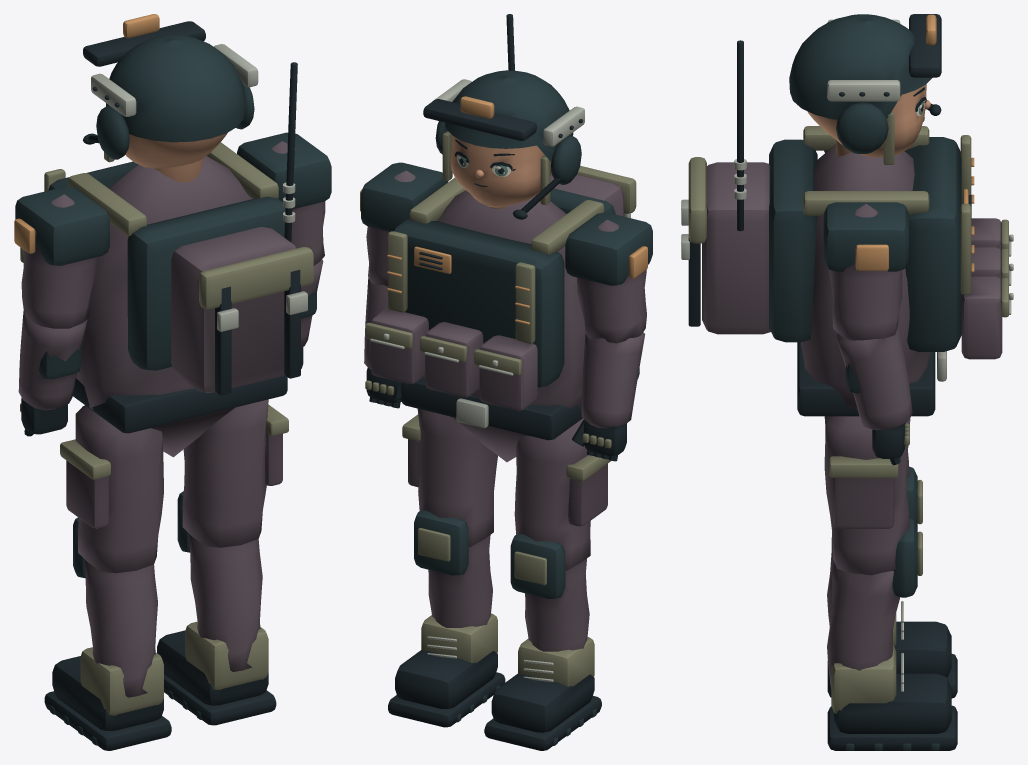
Rendered from kf-sword.glb.
3 renders of one model, left to right at view 1: azimuth 30°, elevation 25°; view 2: azimuth 150°, elevation 25°; view 3: azimuth 270°, elevation 25°, orthographic. The views are drawn at different scales.
Visible parts, largest first — view 1: Torso Woven uniform, Head Ceramic armor, Leg_R Woven uniform, Leg_L Woven uniform, Torso Ceramic armor, Torso Rubber and hair, Torso Webbing, Knee_L Woven uniform, Knee_R Woven uniform, Knee_R Rubber and hair, Arm_R Ceramic armor, Knee_L Rubber and hair (+19 smaller); view 2: Torso Woven uniform, Torso Ceramic armor, Torso Webbing, Leg_R Woven uniform, Leg_L Woven uniform, Head Ceramic armor, Knee_R Rubber and hair, Knee_L Rubber and hair, Elbow_R Woven uniform, Torso Rubber and hair, Arm_R Ceramic armor, Head Skin (+21 smaller); view 3: Torso Woven uniform, Torso Ceramic armor, Head Ceramic armor, Leg_L Woven uniform, Knee_L Rubber and hair, Torso Webbing, Knee_L Woven uniform, Torso Rubber and hair, Elbow_L Woven uniform, Arm_L Woven uniform, Arm_L Ceramic armor, Knee_R Rubber and hair (+9 smaller).
Boxes of the visible parts, bbox=[...] form: Torso Woven uniform: bbox=[76, 156, 296, 457]; Head Ceramic armor: bbox=[96, 35, 254, 159]; Leg_R Woven uniform: bbox=[66, 405, 163, 573]; Leg_L Woven uniform: bbox=[182, 399, 282, 547]; Torso Ceramic armor: bbox=[48, 161, 285, 370]; Torso Rubber and hair: bbox=[72, 62, 300, 433]; Torso Webbing: bbox=[20, 142, 313, 309]; Knee_L Woven uniform: bbox=[189, 534, 262, 671]; Knee_R Woven uniform: bbox=[84, 559, 157, 697]; Knee_R Rubber and hair: bbox=[44, 656, 171, 750]; Arm_R Ceramic armor: bbox=[15, 186, 109, 265]; Knee_L Rubber and hair: bbox=[157, 630, 276, 725]; Torso Woven uniform: bbox=[371, 174, 623, 462]; Torso Ceramic armor: bbox=[394, 188, 615, 387]; Torso Webbing: bbox=[365, 166, 636, 375]; Leg_R Woven uniform: bbox=[514, 418, 607, 570]; Leg_L Woven uniform: bbox=[408, 408, 497, 546]; Head Ceramic armor: bbox=[435, 70, 581, 184]; Knee_R Rubber and hair: bbox=[484, 673, 601, 750]; Knee_L Rubber and hair: bbox=[388, 650, 505, 727]; Elbow_R Woven uniform: bbox=[581, 332, 645, 428]; Torso Rubber and hair: bbox=[401, 14, 624, 440]; Arm_R Ceramic armor: bbox=[565, 212, 652, 285]; Head Skin: bbox=[450, 135, 551, 207]; Torso Woven uniform: bbox=[702, 144, 1002, 409]; Torso Ceramic armor: bbox=[769, 137, 961, 351]; Head Ceramic armor: bbox=[789, 14, 932, 153]; Leg_L Woven uniform: bbox=[824, 416, 910, 575]; Knee_L Rubber and hair: bbox=[827, 673, 957, 750]; Torso Webbing: bbox=[688, 126, 1008, 317]; Knee_L Woven uniform: bbox=[827, 563, 900, 688]; Torso Rubber and hair: bbox=[688, 40, 971, 416]; Elbow_L Woven uniform: bbox=[835, 325, 912, 430]; Arm_L Woven uniform: bbox=[828, 204, 902, 340]; Arm_L Ceramic armor: bbox=[823, 202, 908, 271]; Knee_R Rubber and hair: bbox=[827, 621, 957, 698].
Bounding box in the file's own units: 0.861 × 1.9 × 0.819.
